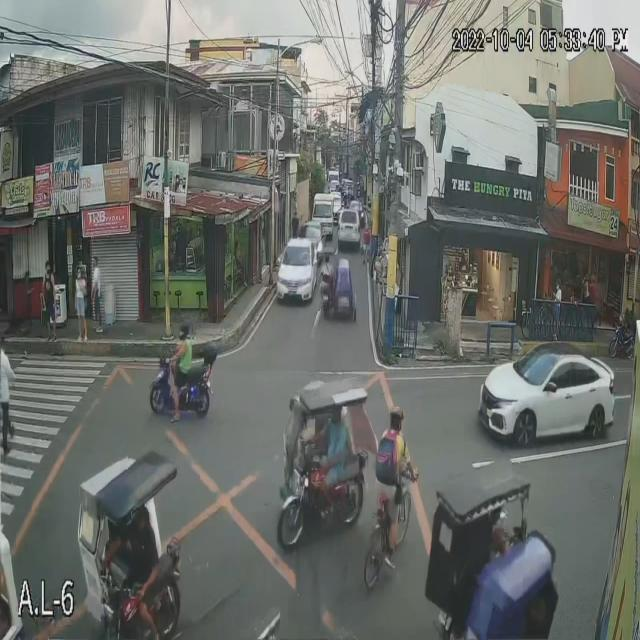Full-Faced: (173, 322, 195, 341)
